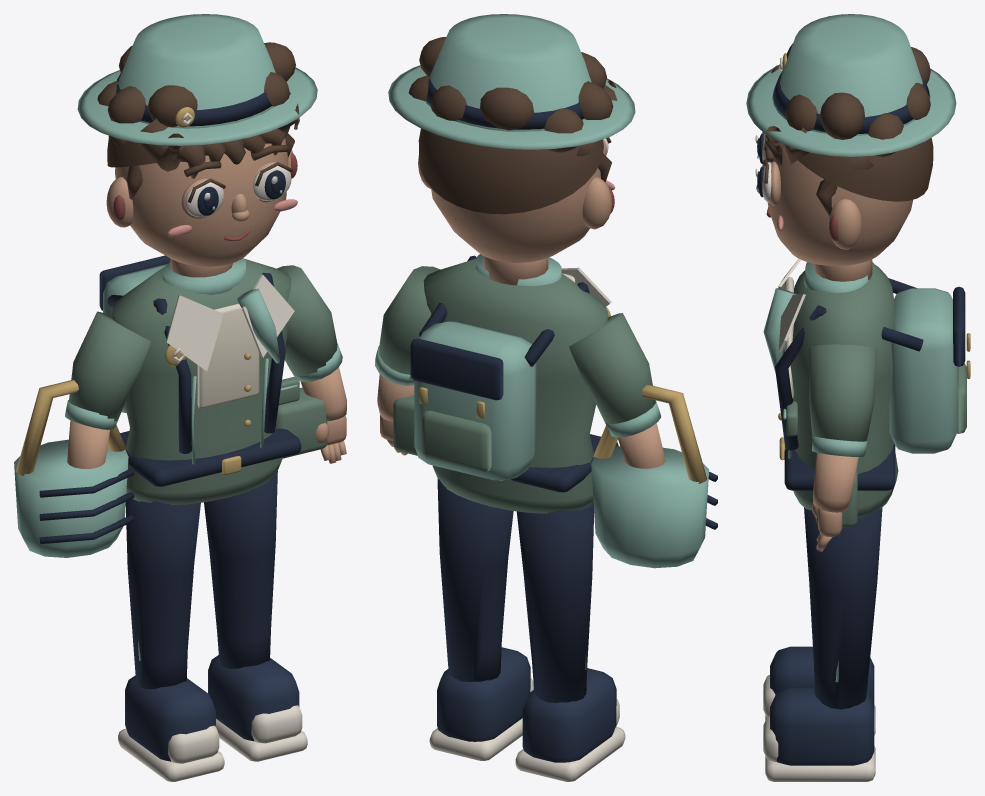
File: npc_mistlake_trainer_4.glb
3 views of the same model, side by side, from view 1: azimuth 30°, elevation 25°; view 2: azimuth 150°, elevation 25°; view 3: azimuth 270°, elevation 25° (orthographic). The views are drawn at different scales.
Visible parts, largest first — view 1: figure.029; view 2: figure.029; view 3: figure.029.
Part boxes in pixels (left/top/right/bottom): figure.029: left=14, top=14, right=346, bottom=781; figure.029: left=375, top=14, right=717, bottom=781; figure.029: left=746, top=14, right=970, bottom=781.
Size of the model in its own units: 0.7568 by 1.58 by 0.4508.
